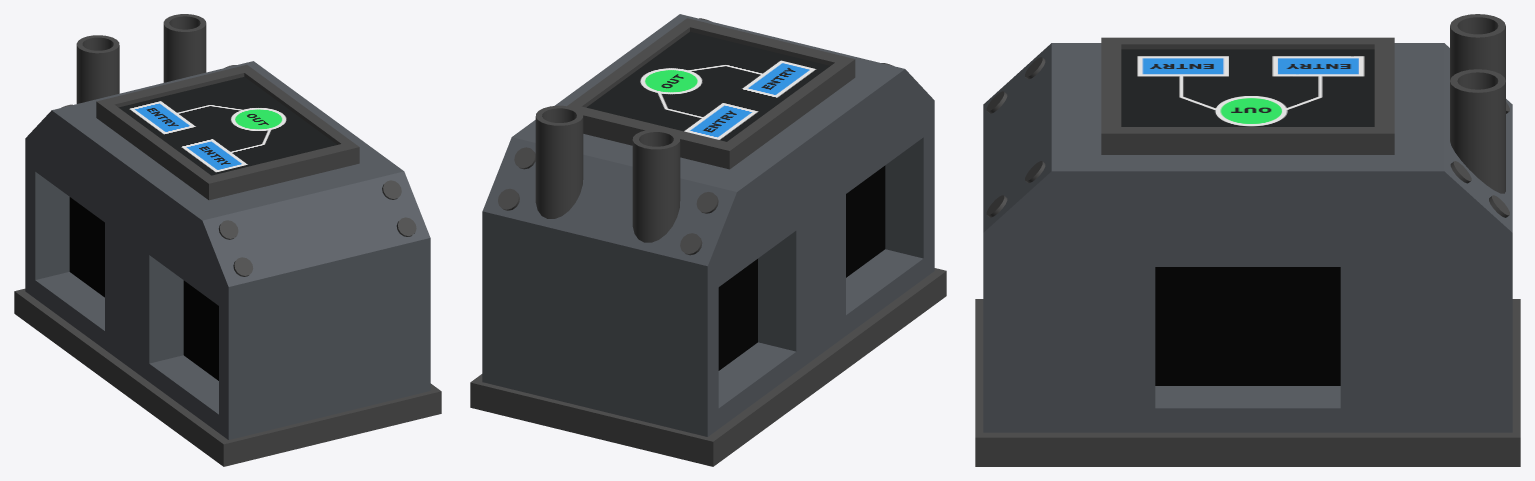
File: Merger.fbx
3 views of the same model, side by side, from view 1: azimuth 30°, elevation 25°; view 2: azimuth 150°, elevation 25°; view 3: azimuth 270°, elevation 25° (orthographic). The views are drawn at different scales.
Parts seen in each view (by area): view 1: Merger; view 2: Merger; view 3: Merger.
Boxes of the visible parts, x1,y1,x2,y2 form: Merger: (14,14,441,466); Merger: (470,14,946,466); Merger: (975,14,1520,466).
Size of the model in its own units: 2.16 by 2.51 by 3.59.
